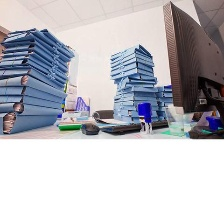book: (0, 24, 75, 134), (107, 42, 158, 123), (152, 79, 177, 121)
glass: (162, 105, 189, 136)
